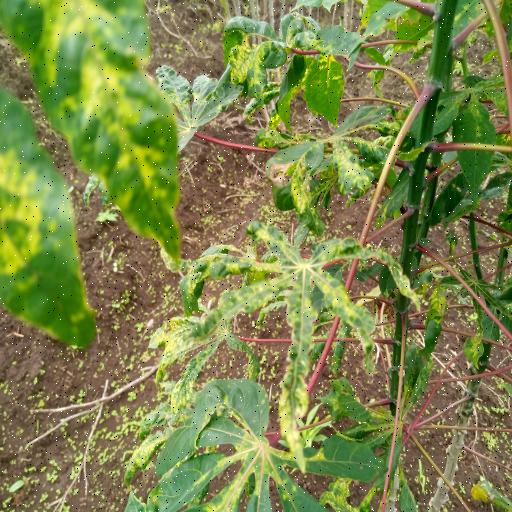Cassava_Mosaic: (0, 0, 187, 353), (172, 206, 406, 398), (154, 380, 342, 512)
